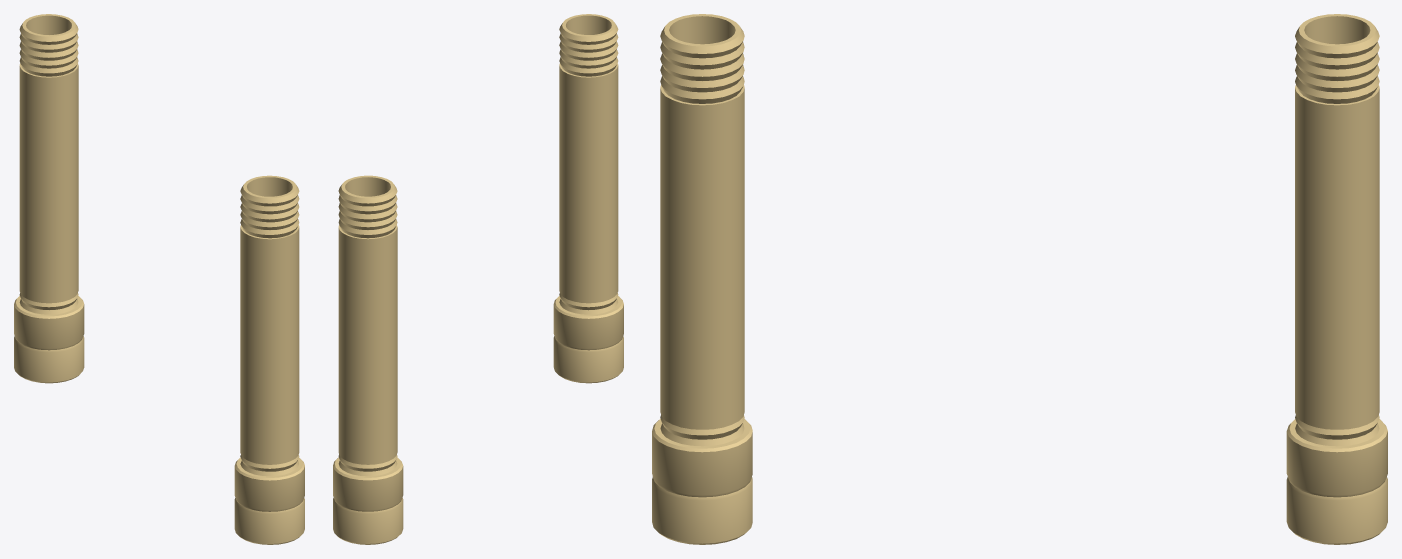
File: pipes_supply__water_heater-attic_gas_tank+attic_electric_tank_and_plumbing-cpvc__r4y.glb
3 views of the same model, side by side, from view 1: azimuth 30°, elevation 25°; view 2: azimuth 150°, elevation 25°; view 3: azimuth 270°, elevation 25° (orthographic). The views are drawn at different scales.
Visible parts, largest first — view 1: pipe_supply_wh_nipple_cold, pipe_supply_wh_nipple_hot, fit_coupling_wh_nipple_hot, fit_coupling_wh_nipple_cold; view 2: pipe_supply_wh_nipple_cold, pipe_supply_wh_nipple_hot, fit_coupling_wh_nipple_hot, fit_coupling_wh_nipple_cold; view 3: pipe_supply_wh_nipple_cold, pipe_supply_wh_nipple_hot, fit_coupling_wh_nipple_cold, fit_coupling_wh_nipple_hot.
Part boxes in pixels (x1,y1,x2,y2): pipe_supply_wh_nipple_cold: [19, 14, 78, 314]; pipe_supply_wh_nipple_hot: [240, 175, 299, 476]; fit_coupling_wh_nipple_hot: [234, 457, 304, 544]; fit_coupling_wh_nipple_cold: [14, 296, 84, 383]; pipe_supply_wh_nipple_cold: [338, 175, 397, 476]; pipe_supply_wh_nipple_hot: [559, 14, 618, 314]; fit_coupling_wh_nipple_hot: [553, 296, 623, 383]; fit_coupling_wh_nipple_cold: [333, 457, 403, 544]; pipe_supply_wh_nipple_cold: [1295, 14, 1379, 446]; pipe_supply_wh_nipple_hot: [660, 14, 744, 446]; fit_coupling_wh_nipple_cold: [1286, 419, 1387, 544]; fit_coupling_wh_nipple_hot: [652, 419, 752, 544].
Size of the model in its own units: 0.0317 by 0.1719 by 0.2318.
